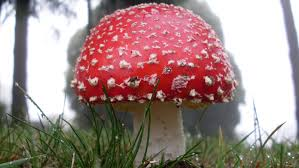Amanita muscaria: (59, 1, 250, 133)
